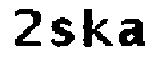2: (10, 7, 45, 52)
a: (117, 14, 149, 47)
k: (81, 3, 115, 51)
s: (45, 15, 75, 50)
